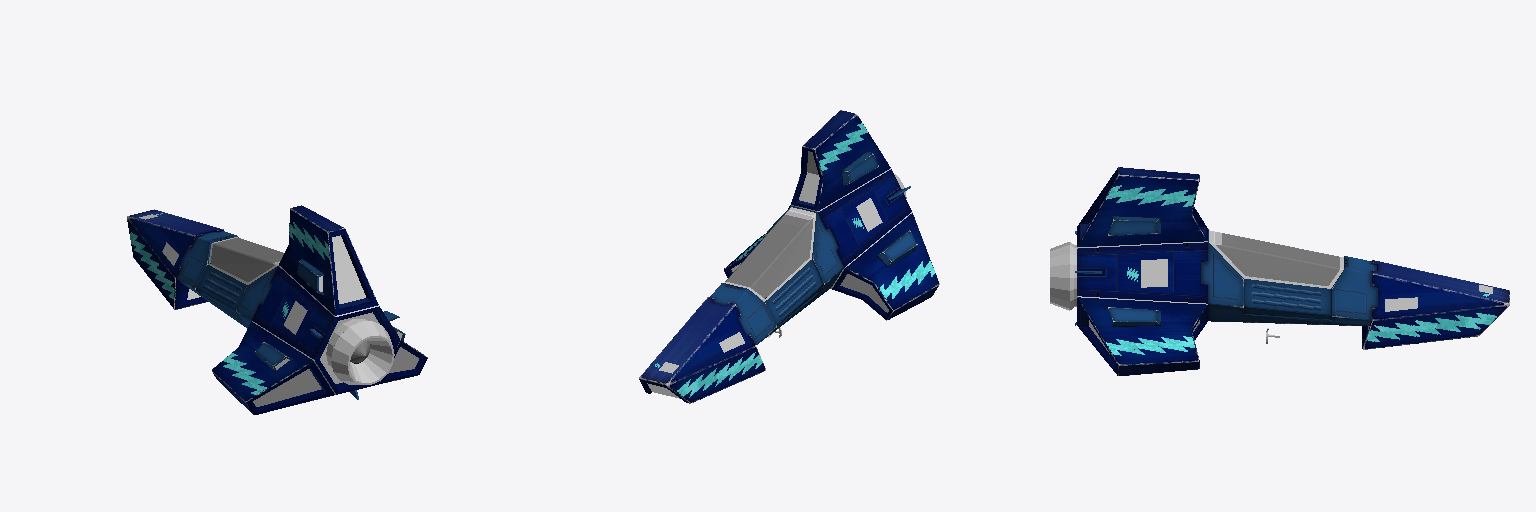
3 renders of one model, left to right at view 1: azimuth 30°, elevation 25°; view 2: azimuth 150°, elevation 25°; view 3: azimuth 270°, elevation 25°, orthographic.
Visible parts, largest first — view 1: 13_deathanchor_a; view 2: 13_deathanchor_a; view 3: 13_deathanchor_a.
Boxes of the visible parts, x1=… form: 13_deathanchor_a: x1=127, y1=205, x2=427, y2=414; 13_deathanchor_a: x1=639, y1=110, x2=939, y2=403; 13_deathanchor_a: x1=1050, y1=167, x2=1509, y2=375.
Bounding box in the file's own units: 2.35 × 2.1 × 5.16.
Materials: 26 (6 with a texture image).